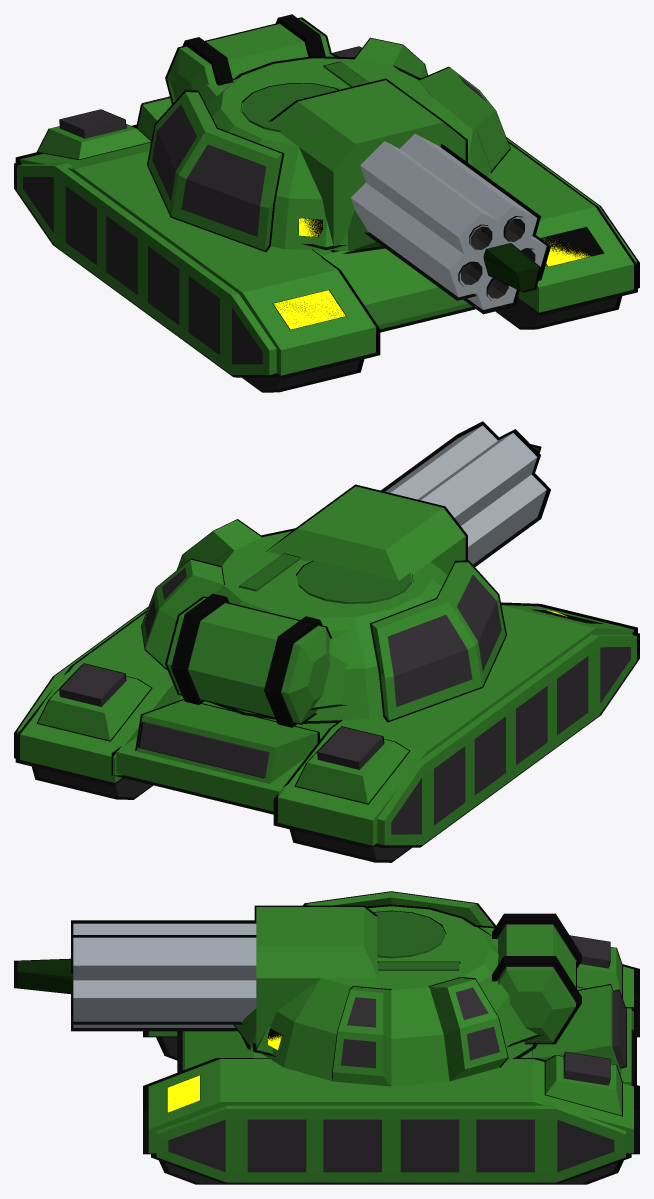
Rendered from Gattling.glb.
3 views of the same model, one above another, from view 1: azimuth 30°, elevation 25°; view 2: azimuth 150°, elevation 25°; view 3: azimuth 270°, elevation 25° (orthographic). The views are drawn at different scales.
Visible parts, largest first — view 1: Track housing, Turn Upgrade, Gattling, Armor Upgrade, Gattling Housing, Turret0, Chasis, Reload Upgrade, Dmg Upgrade, Speed Upgrade, Track, Turret0 Deco (+13 smaller); view 2: Track housing, Turn Upgrade, Speed Upgrade, Armor Upgrade, Dmg Upgrade, Gattling Housing, Turret0, Gattling, Reload Upgrade, Chasis, Dmg Upgrade_inverted, Turret0 Deco (+9 smaller); view 3: Turn Upgrade, Gattling, Turret0, Track housing, Gattling Housing, Reload Upgrade, Speed Upgrade, Dmg Upgrade, Turret0 Deco, Gattling_inverted, Chasis, Dmg Upgrade_inverted (+13 smaller).
Part boxes in pixels (x1=…): Track housing: x1=20, y1=142, x2=633, y2=375; Turn Upgrade: x1=17, y1=138, x2=636, y2=375; Gattling: x1=351, y1=134, x2=546, y2=309; Armor Upgrade: x1=148, y1=92, x2=282, y2=250; Gattling Housing: x1=271, y1=80, x2=465, y2=249; Turret0: x1=206, y1=58, x2=489, y2=250; Chasis: x1=311, y1=248, x2=472, y2=329; Reload Upgrade: x1=355, y1=38, x2=509, y2=172; Dmg Upgrade: x1=167, y1=18, x2=330, y2=102; Speed Upgrade: x1=38, y1=47, x2=361, y2=159; Track: x1=244, y1=297, x2=617, y2=389; Turret0 Deco: x1=242, y1=62, x2=368, y2=131; Track housing: x1=20, y1=605, x2=633, y2=845; Turn Upgrade: x1=17, y1=608, x2=636, y2=845; Speed Upgrade: x1=38, y1=664, x2=408, y2=803; Armor Upgrade: x1=371, y1=562, x2=505, y2=720; Dmg Upgrade: x1=167, y1=598, x2=330, y2=723; Gattling Housing: x1=268, y1=486, x2=465, y2=580; Turret0: x1=215, y1=531, x2=447, y2=721; Gattling: x1=385, y1=425, x2=546, y2=564; Reload Upgrade: x1=141, y1=520, x2=261, y2=668; Chasis: x1=116, y1=695, x2=336, y2=811; Dmg Upgrade_inverted: x1=165, y1=593, x2=332, y2=727; Turret0 Deco: x1=240, y1=554, x2=411, y2=603; Turn Upgrade: x1=156, y1=1103, x2=625, y2=1182; Gattling: x1=73, y1=923, x2=256, y2=1027; Turret0: x1=250, y1=906, x2=532, y2=1086; Track housing: x1=148, y1=966, x2=633, y2=1153; Gattling Housing: x1=256, y1=907, x2=378, y2=1049; Reload Upgrade: x1=332, y1=978, x2=507, y2=1086; Speed Upgrade: x1=532, y1=936, x2=626, y2=1115; Dmg Upgrade: x1=497, y1=924, x2=576, y2=1042; Turret0 Deco: x1=374, y1=911, x2=459, y2=970; Gattling_inverted: x1=71, y1=920, x2=256, y2=1031; Chasis: x1=182, y1=1008, x2=631, y2=1085; Dmg Upgrade_inverted: x1=492, y1=913, x2=581, y2=1044.
Size of the model in its own units: 14.92 by 7.57 by 23.62.
